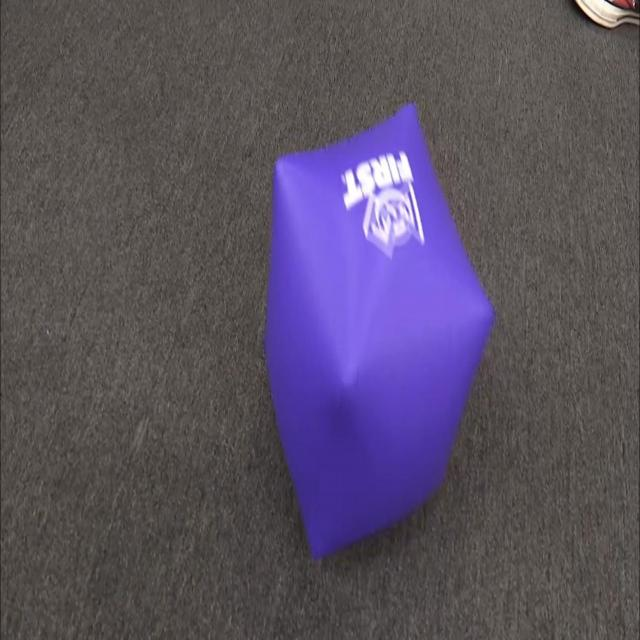frc_cube: (269, 112, 497, 563)
